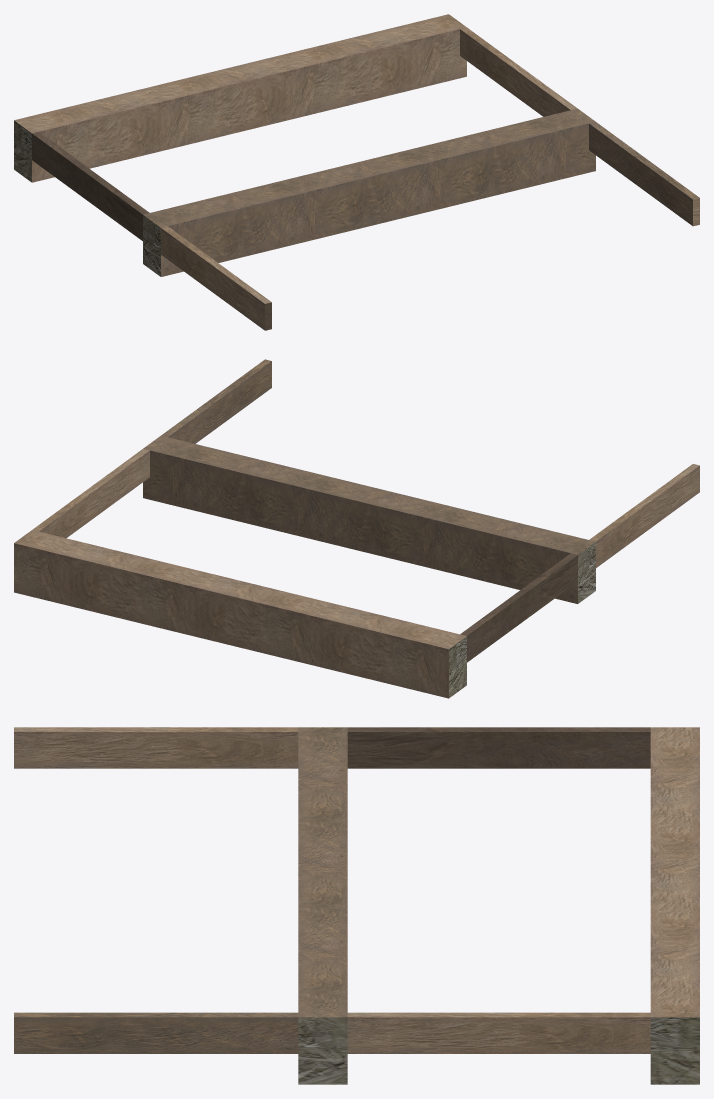
File: RafterCenterB.fbx
The picture shows the model from 3 angles, top to bottom: view 1: azimuth 30°, elevation 25°; view 2: azimuth 150°, elevation 25°; view 3: azimuth 270°, elevation 25°; orthographic projection. The views are drawn at different scales.
Visible parts, largest first — view 1: RafterCenterB; view 2: RafterCenterB; view 3: RafterCenterB.
Boxes of the visible parts, left/top/right/bottom form: RafterCenterB: left=14, top=14, right=699, bottom=330; RafterCenterB: left=14, top=359, right=699, bottom=698; RafterCenterB: left=14, top=727, right=699, bottom=1084.
Bounding box in the file's own units: 374 × 40.53 × 374.
